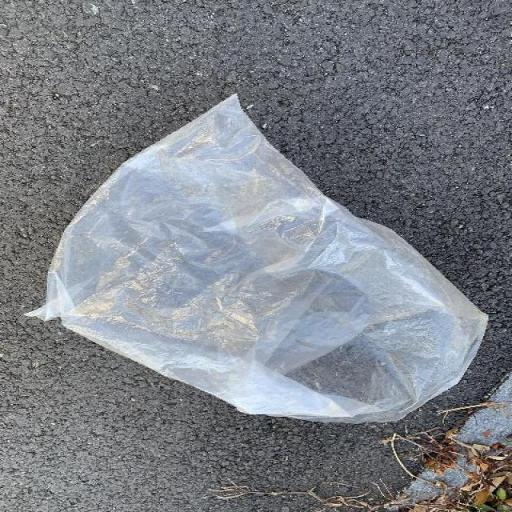plastic-bag: (20, 96, 490, 429)
